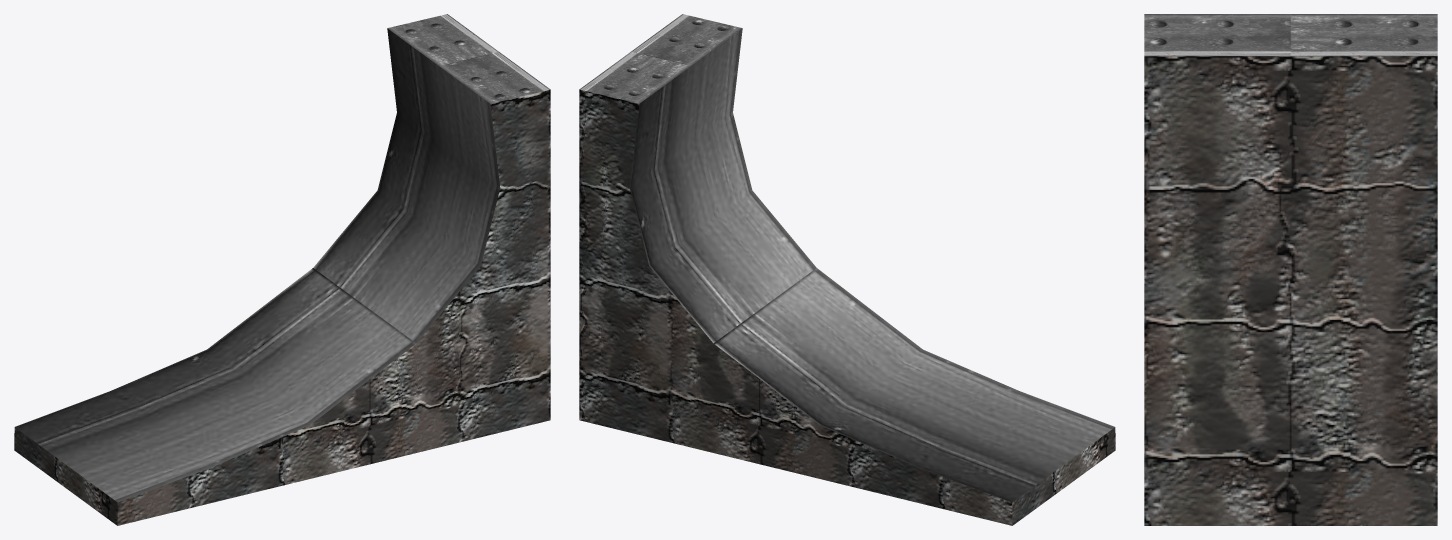
The model's file is Rampa.FBX.
3 renders of one model, left to right at view 1: azimuth 30°, elevation 25°; view 2: azimuth 150°, elevation 25°; view 3: azimuth 270°, elevation 25°, orthographic. The views are drawn at different scales.
Parts seen in each view (by area): view 1: Box005; view 2: Box005; view 3: Box005.
Boxes of the visible parts, x1,y1,x2,y2 form: Box005: [14, 14, 550, 525]; Box005: [579, 14, 1115, 525]; Box005: [1144, 14, 1437, 525].
Bounding box in the file's own units: 49.06 × 35.84 × 20.25.
Materials: 2 (2 with a texture image).
